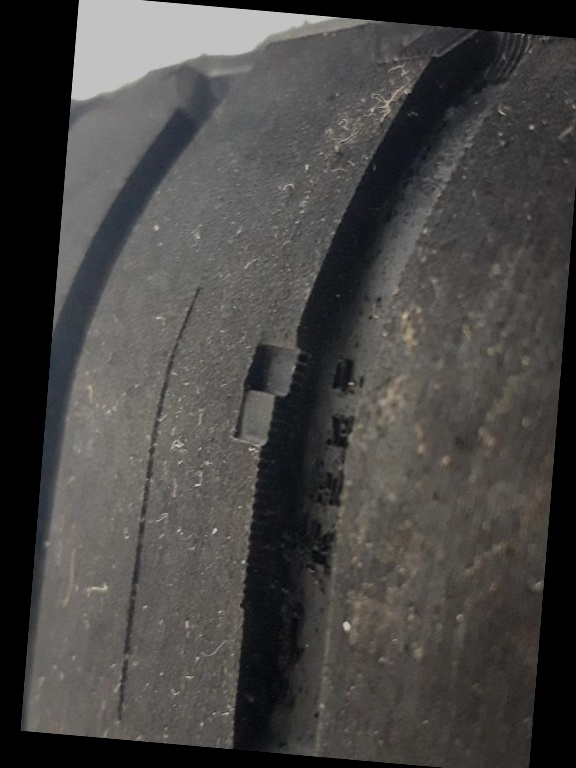temoin:25: (214, 321, 332, 476)
